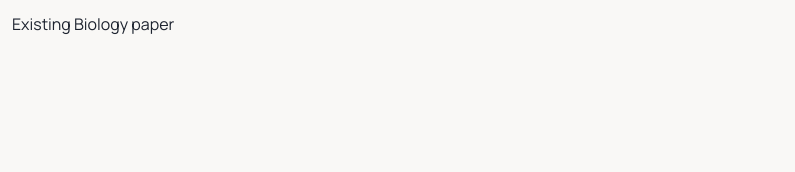
Scenario: list refresh, keyboard and accessible sheets › keeps content while refreshing and prevents duplicate refresh calls
The image size is (795, 172).
Later steps or results of the test are not shown.
Press the mouse on the text "Existing Biology paper" at [93, 24], box [12,13,174,35]
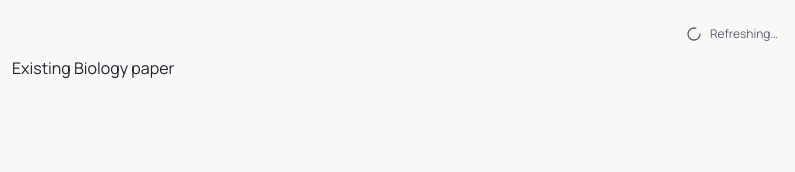
Press the mouse on the text "Existing Biology paper" at [93, 68], box [12,57,174,79]
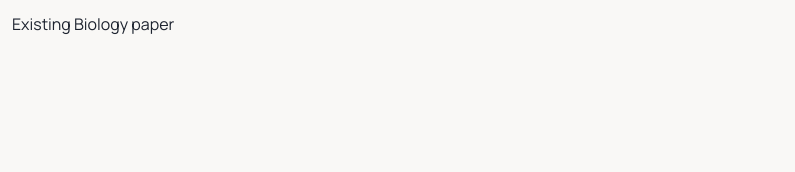
Expected: the text "Existing Biology paper" is shown, [12,13,174,35]
Expected: the message "Refresh" is gone
